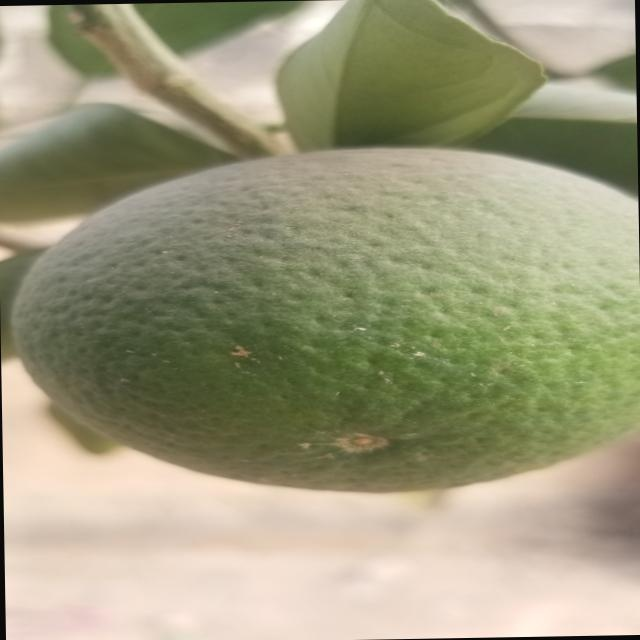agrume: (29, 141, 640, 501)
